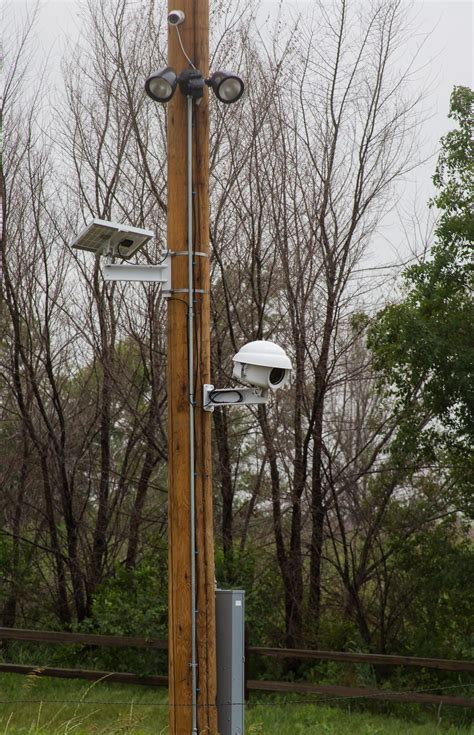pole: (137, 4, 260, 729)
